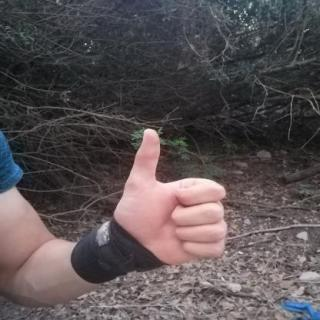ALIF: (101, 120, 239, 276)
